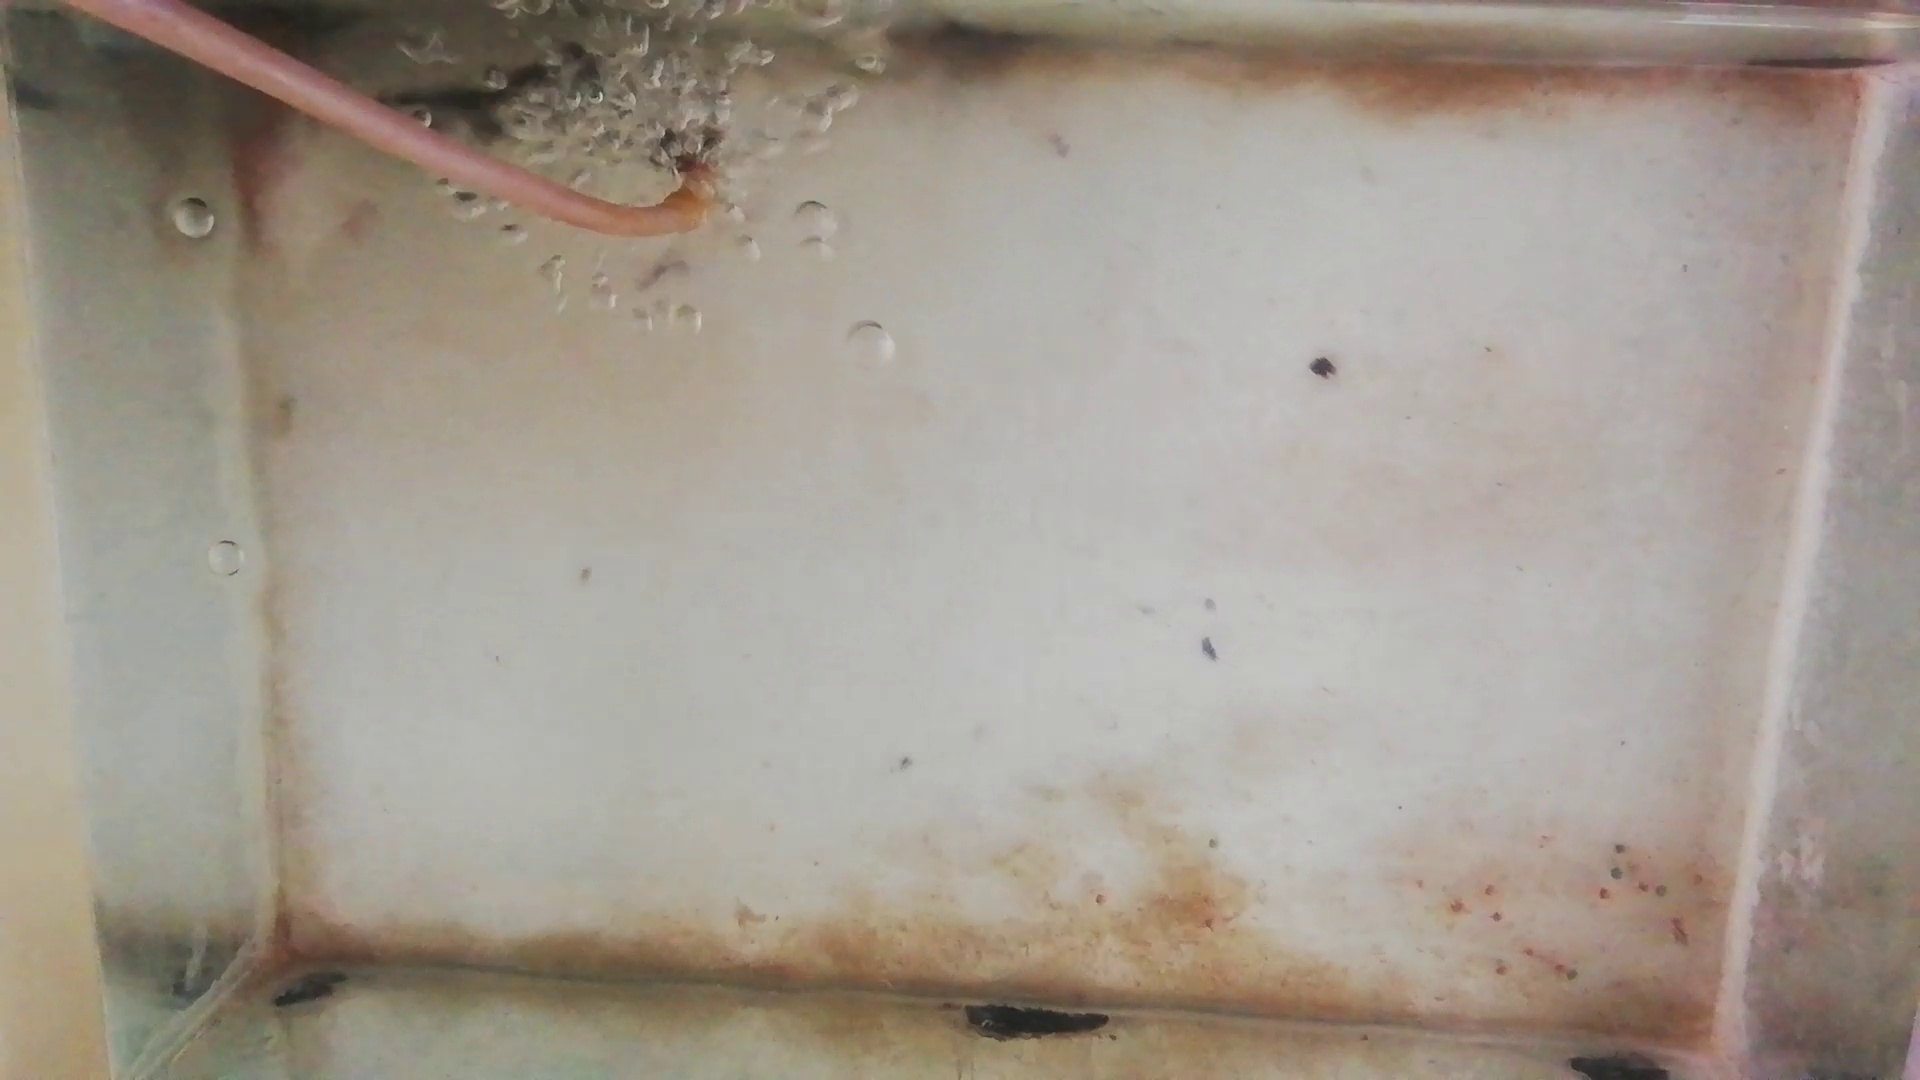fish: (377, 46, 604, 144), (228, 87, 299, 241)
